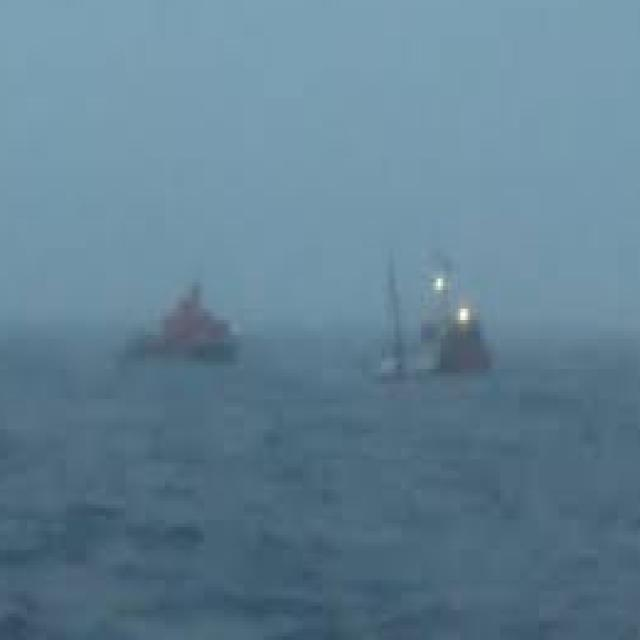fishing boat: (98, 257, 243, 385), (369, 256, 502, 391)
